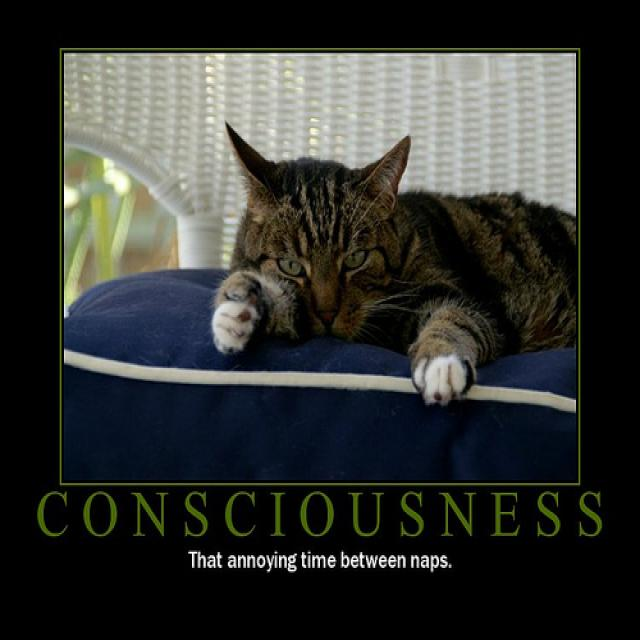left eye: (340, 243, 370, 270)
